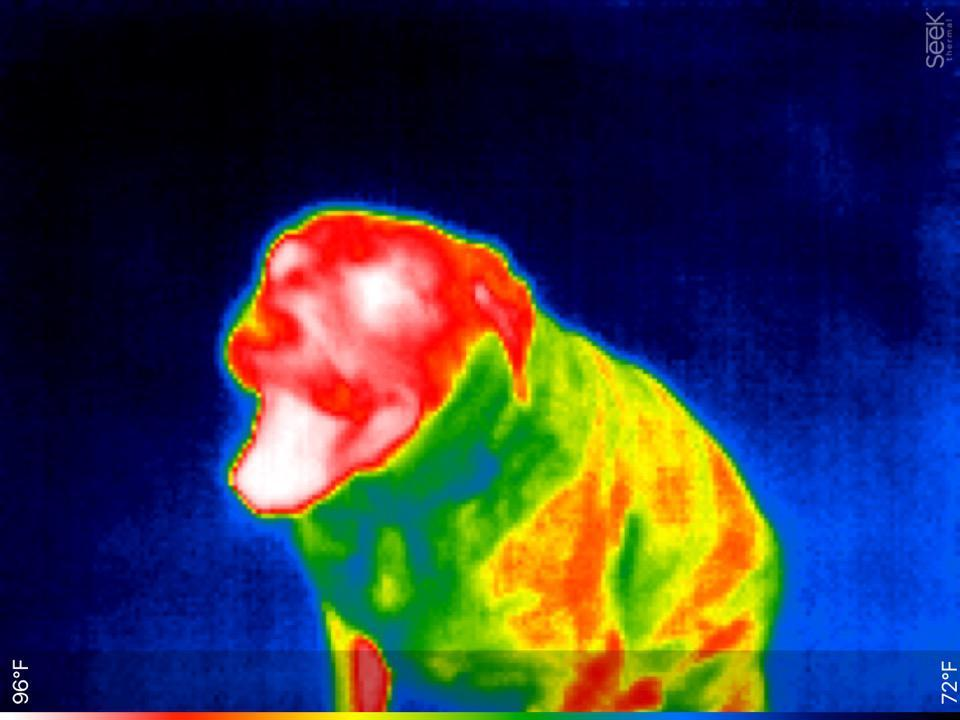dog: (210, 200, 787, 709)
